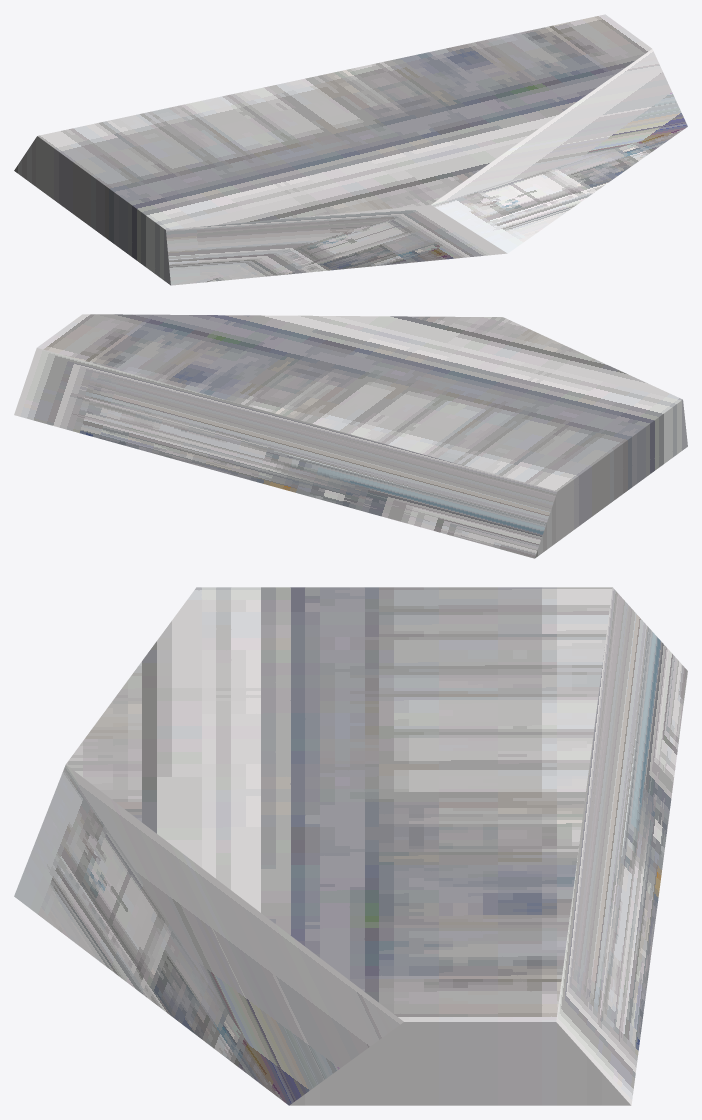
File: 027_highriserWall_cell_001.gltf
3 renders of one model, top to bottom at view 1: azimuth 30°, elevation 25°; view 2: azimuth 150°, elevation 25°; view 3: azimuth 270°, elevation 25°, orthographic. The views are drawn at different scales.
Visible parts, largest first — view 1: highriserWall_cell_001; view 2: highriserWall_cell_001; view 3: highriserWall_cell_001.
Part boxes in pixels (<box>): highriserWall_cell_001: <box>14,14,687,285</box>; highriserWall_cell_001: <box>14,314,687,558</box>; highriserWall_cell_001: <box>14,587,687,1105</box>.
Size of the model in its own units: 4.09 by 0.3682 by 2.68.
Materials: 1 (1 with a texture image).
